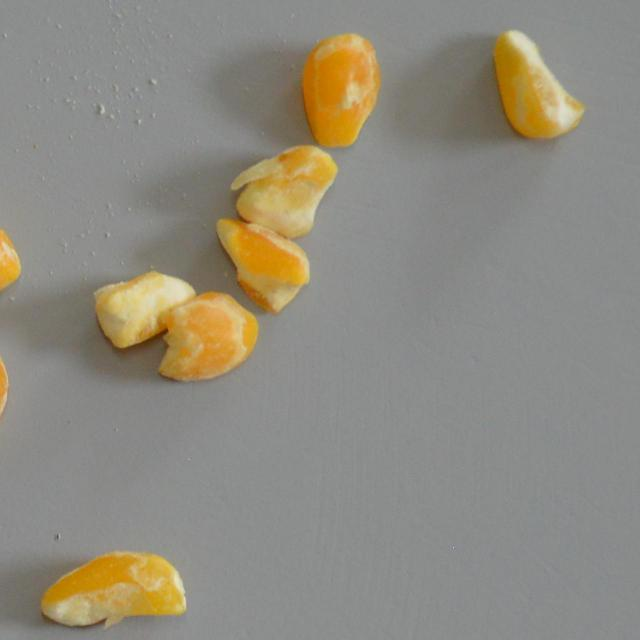dañado: (37, 548, 198, 631), (225, 140, 340, 239), (212, 208, 312, 318), (296, 30, 383, 152), (0, 172, 24, 300), (0, 326, 10, 464)
pelicula: (490, 22, 586, 145), (156, 288, 260, 384), (88, 266, 197, 350)
